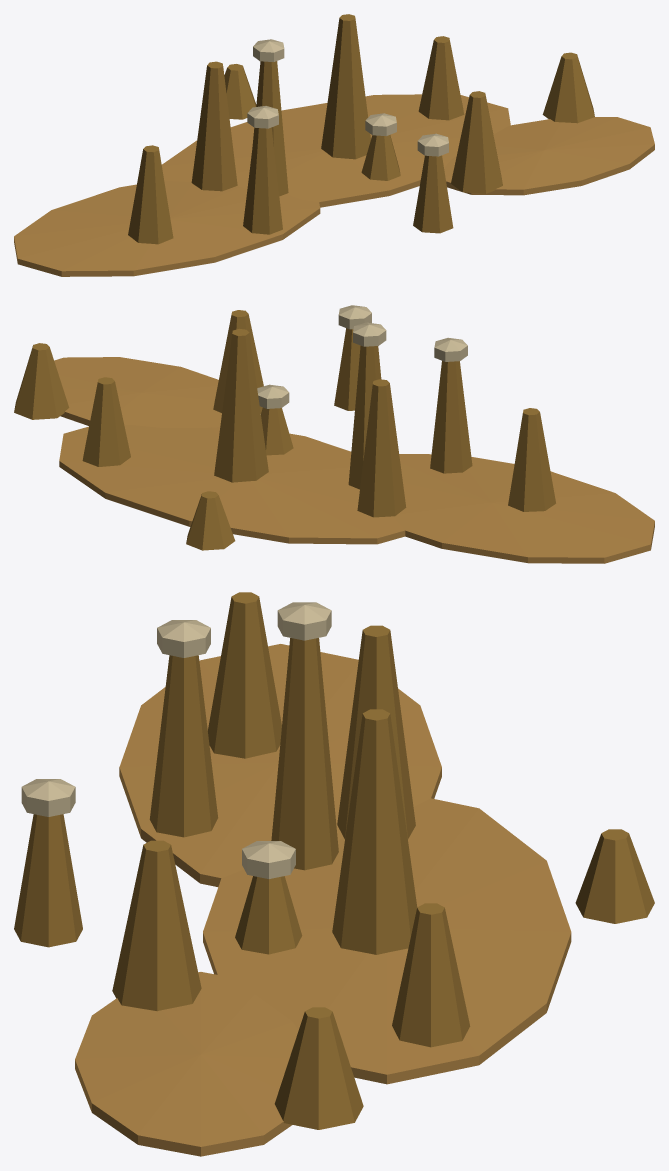
File: sulphur_colony_a.obj
The picture shows the model from 3 angles, top to bottom: view 1: azimuth 30°, elevation 25°; view 2: azimuth 150°, elevation 25°; view 3: azimuth 270°, elevation 25°; orthographic projection. The views are drawn at different scales.
Visible parts, largest first — view 1: crust_0, crust_1, crust_2, feeder_2, feeder_4, feeder_8, feeder_6, feeder_1, feeder_10, feeder_5, feeder_3, feeder_9 (+6 smaller); view 2: crust_1, crust_0, crust_2, feeder_2, feeder_4, feeder_6, feeder_1, feeder_10, feeder_5, feeder_9, feeder_7, feeder_3 (+6 smaller); view 3: crust_1, crust_2, crust_0, feeder_2, feeder_9, feeder_8, feeder_6, feeder_1, feeder_10, feeder_5, feeder_3, feeder_4 (+6 smaller).
Part boxes in pixels (x1,y1,x2,y2): crust_0: (14,180,320,276); crust_1: (161,94,510,207); crust_2: (444,117,654,195); feeder_2: (321,14,370,159); feeder_4: (191,61,237,191); feeder_8: (451,91,502,193); feeder_6: (243,127,282,234); feeder_1: (128,145,173,244); feeder_10: (418,36,464,120); feeder_5: (542,52,594,123); feeder_3: (413,155,453,233); feeder_9: (252,61,288,196); crust_1: (59,425,405,544); crust_0: (393,454,654,563); crust_2: (54,357,221,427); feeder_2: (214,328,268,482); feeder_4: (357,379,406,517); feeder_6: (430,361,472,473); feeder_1: (508,408,555,511); feeder_10: (82,377,130,466); feeder_5: (14,343,69,419); feeder_9: (348,346,381,489); feeder_7: (186,491,235,550); feeder_3: (334,328,360,410); crust_1: (203,798,571,1084); crust_2: (75,972,298,1156); crust_0: (119,644,441,886); feeder_2: (332,709,417,954); feeder_9: (271,638,338,870); feeder_8: (112,840,201,1011); feeder_6: (149,655,218,837); feeder_1: (208,592,281,758); feeder_10: (392,903,470,1047); feeder_5: (274,1007,363,1129); feeder_3: (14,814,82,947); feeder_4: (337,625,415,838).
Size of the model in its own units: 6.71 by 1.66 by 3.61.
